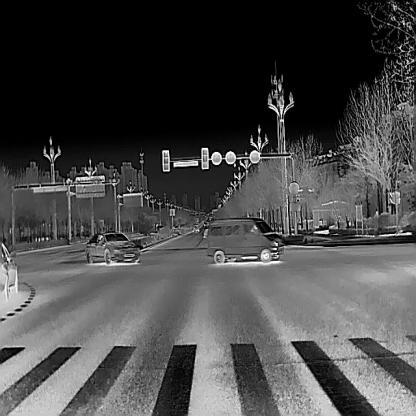car: (206, 216, 284, 263), (86, 230, 141, 265), (0, 240, 18, 300), (191, 224, 199, 234)
